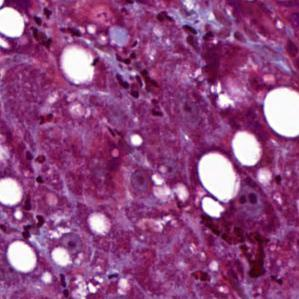inflammation: (107, 47, 166, 103), (152, 8, 216, 48), (14, 199, 51, 243)
